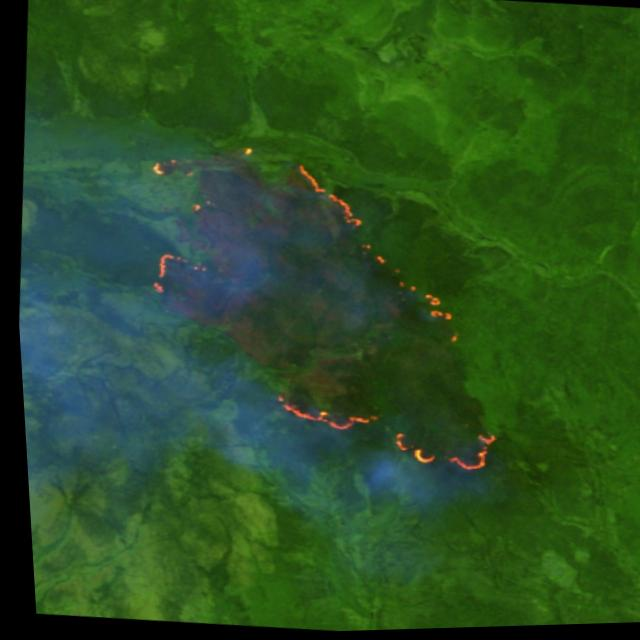fire: (116, 131, 519, 491)
